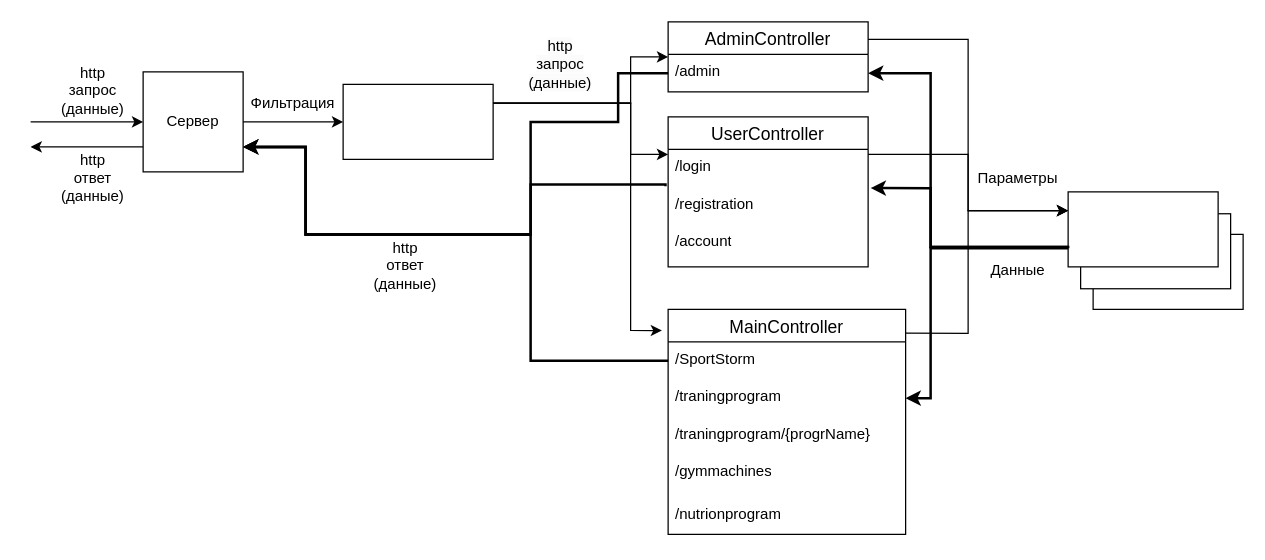
The diagram is 1265 pixels wide and 560 high, and some of its shapes have lost their labels. The shapes that lost their labels are listed below. From the top down, each one's centre as x and y in pixels, then its label:
At (x=417, y=121): "SecurityConfig".
At (x=1142, y=229): "Service".
